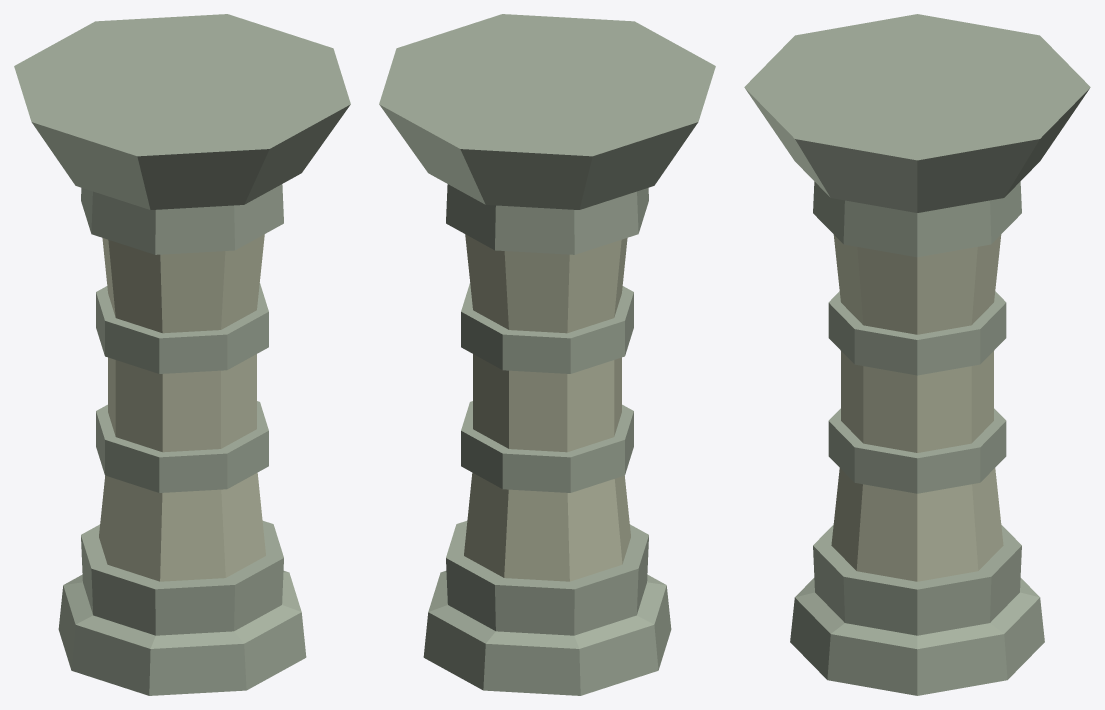
The model's file is Pilier 2.0.fbx.
3 renders of one model, left to right at view 1: azimuth 30°, elevation 25°; view 2: azimuth 150°, elevation 25°; view 3: azimuth 270°, elevation 25°, orthographic.
Visible parts, largest first — view 1: Pilier v2.0; view 2: Pilier v2.0; view 3: Pilier v2.0.
Part boxes in pixels (x1,y1,x2,y2): Pilier v2.0: (14, 14, 350, 695); Pilier v2.0: (379, 14, 715, 695); Pilier v2.0: (744, 14, 1090, 695).
Bounding box in the file's own units: 1221 × 2157 × 1221.
